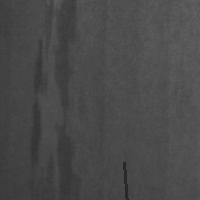inclusion: (27, 1, 82, 199), (122, 160, 129, 200)
